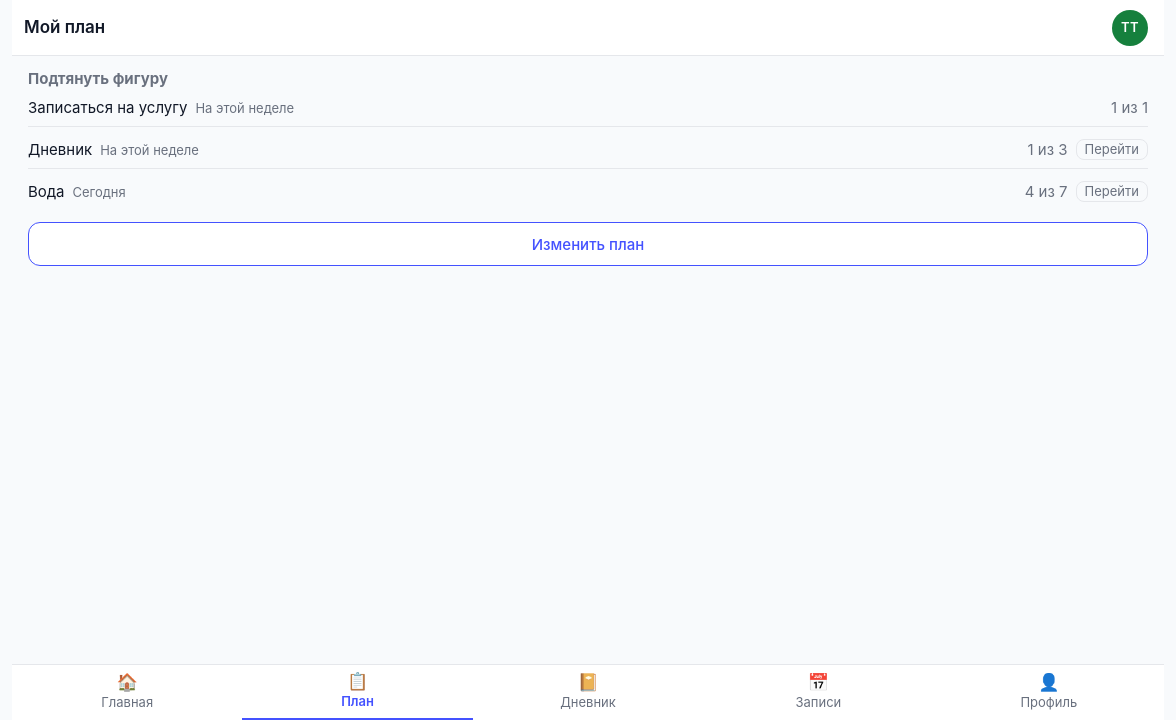
карточка › «Изменить план» — DELETE, затем конструктор
Click the button "Изменить план" at x=588, y=244, box [28,222,1148,266]
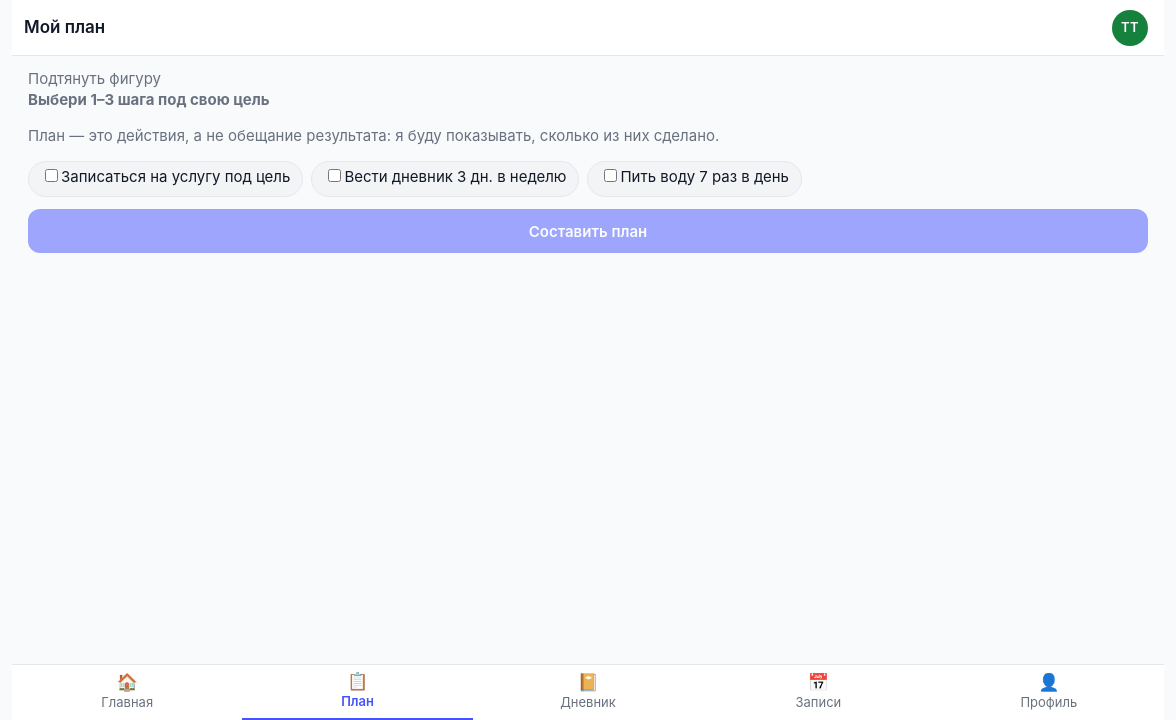
Result: the element with test id "plan-lite-card" is gone
Result: the number of checkboxes is 3 at [45,169,58,182]; [328,169,341,182]; [604,169,617,182]
